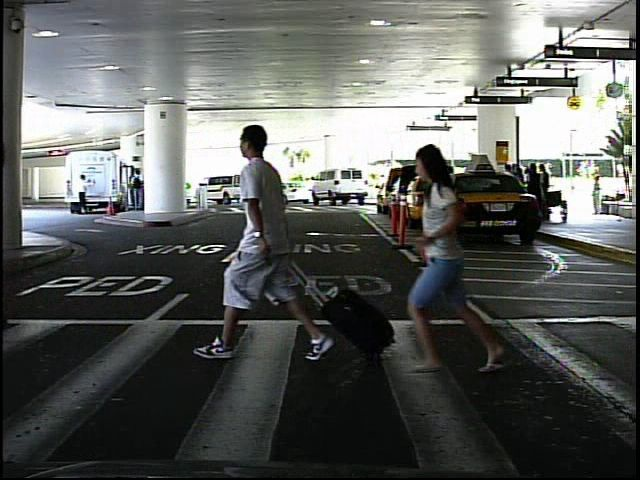person: (207, 105, 341, 371), (411, 133, 522, 381), (588, 172, 607, 218), (74, 172, 92, 215)
